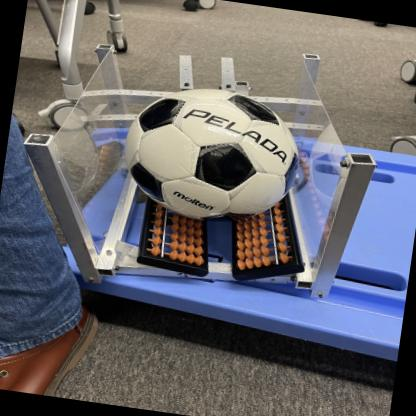ball: (117, 76, 308, 232)
